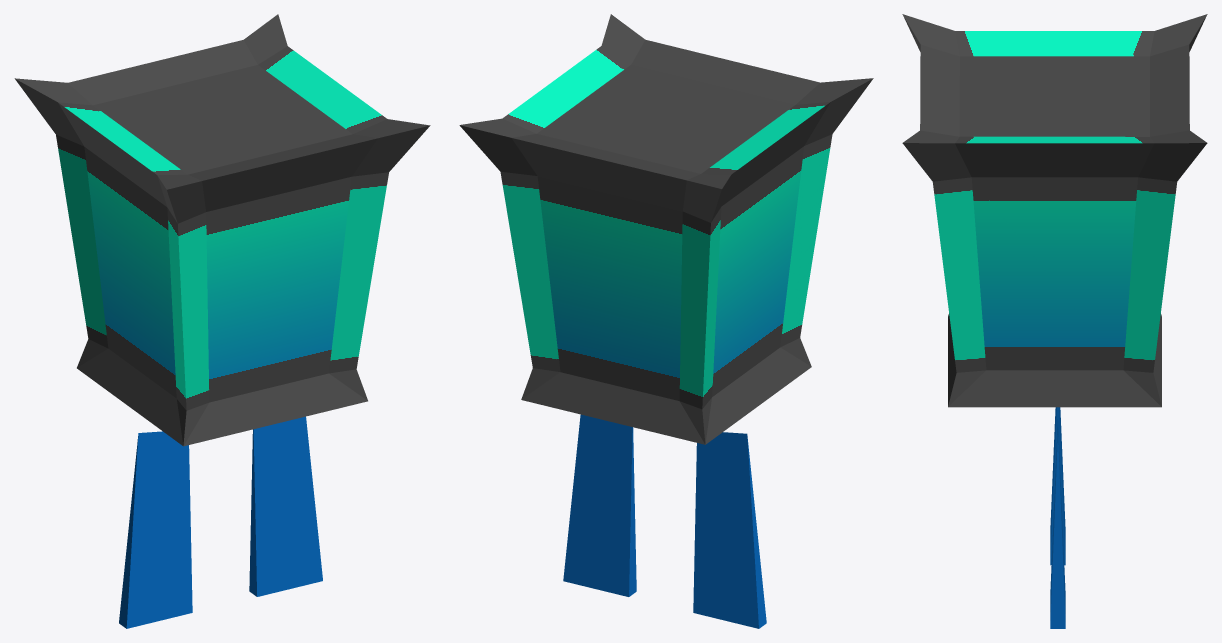
Rendered from LanternCube_medium.fbx.
The picture shows the model from 3 angles, left to right: view 1: azimuth 30°, elevation 25°; view 2: azimuth 150°, elevation 25°; view 3: azimuth 270°, elevation 25°; orthographic projection.
Visible parts, largest first — view 1: XPLantern_mid; view 2: XPLantern_mid; view 3: XPLantern_mid.
Part boxes in pixels (x1=…): XPLantern_mid: x1=14, y1=14, x2=430, y2=628; XPLantern_mid: x1=459, y1=14, x2=873, y2=628; XPLantern_mid: x1=902, y1=14, x2=1207, y2=628.
Bounding box in the file's own units: 68.52 × 124 × 68.52.
